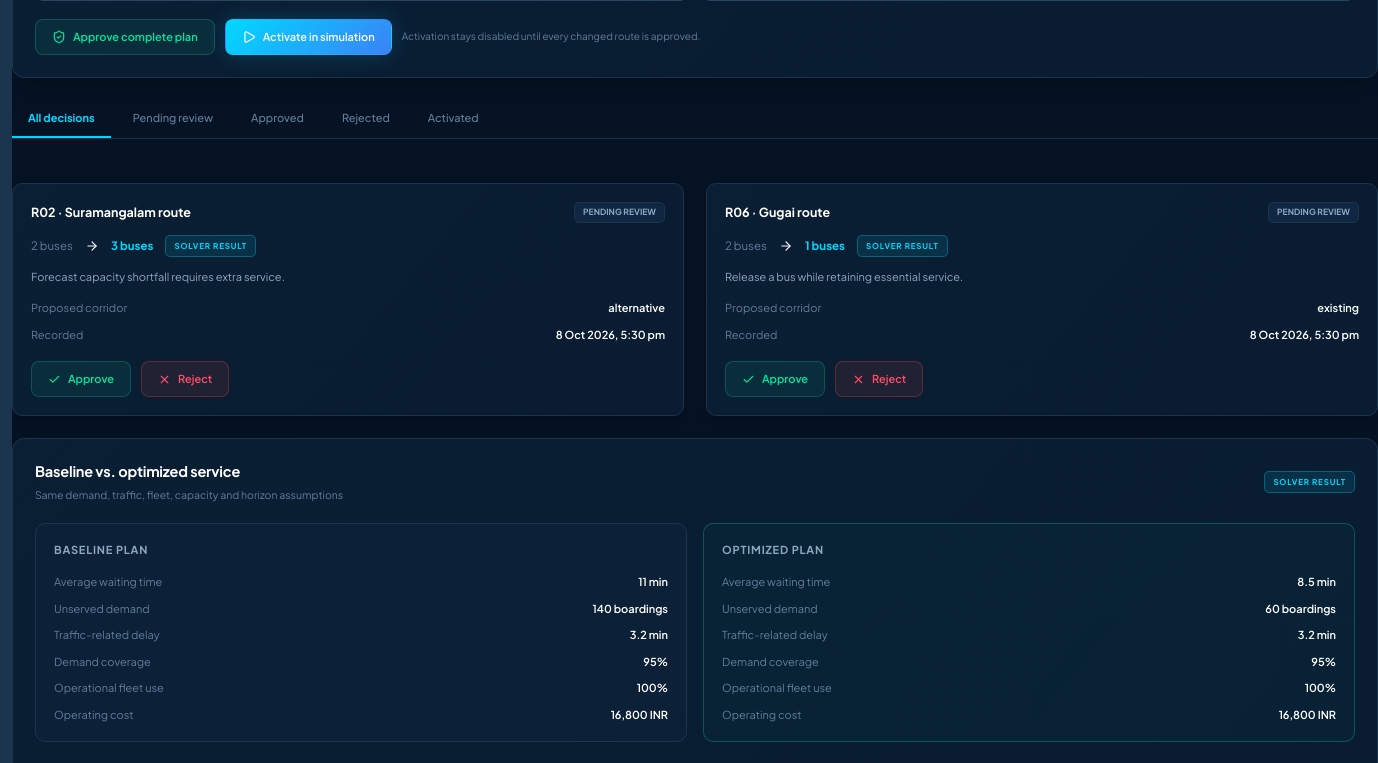
Connected operating workflows › records an individual rejection and blocks approval or activation of that plan
(page scrolled)
Click the button "Reject" below "R02" at {"x": 185, "y": 379}, box [141,361,229,397]
(page scrolled)
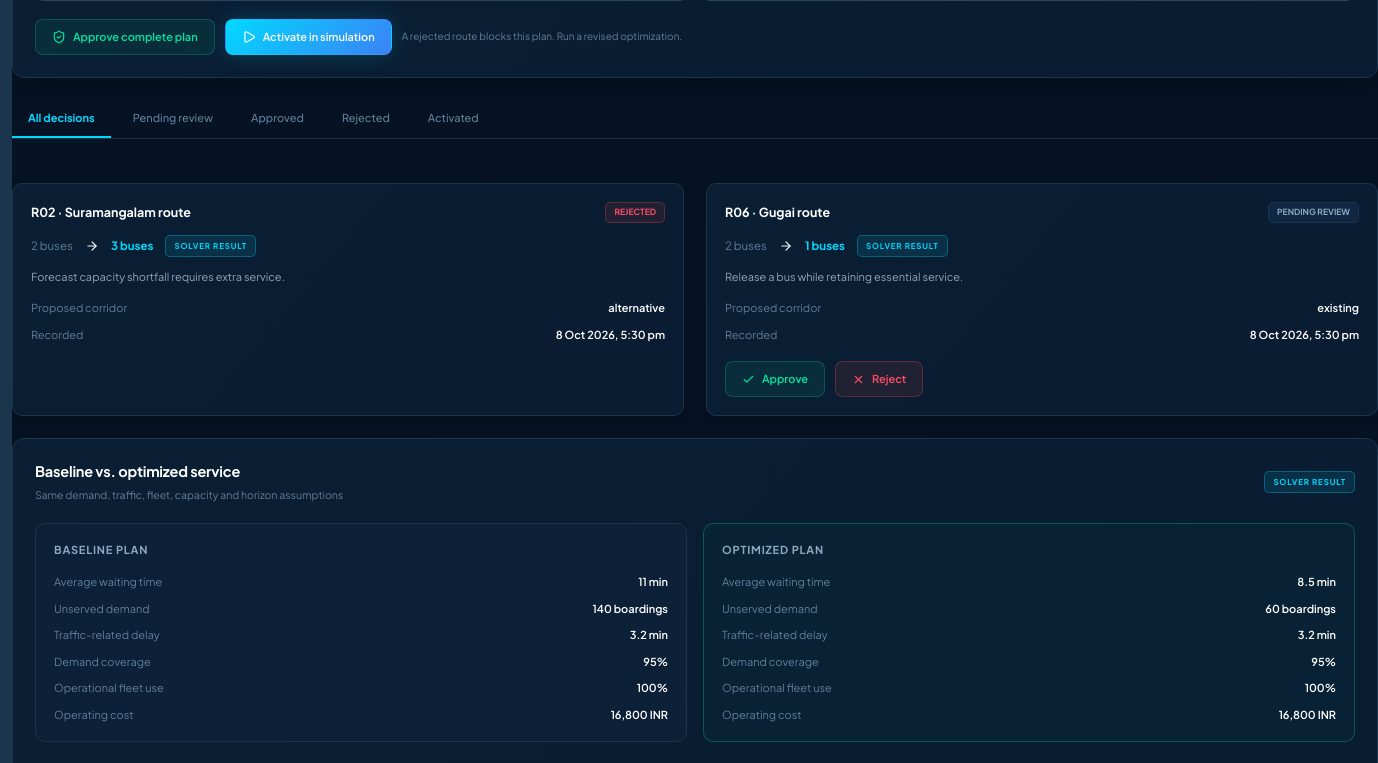
Check: the button "Approve complete plan" is disabled, box [35,19,215,55]
Check: the text "A rejected route blocks this plan. Run a revised optimization." is shown, box [402,29,682,44]
